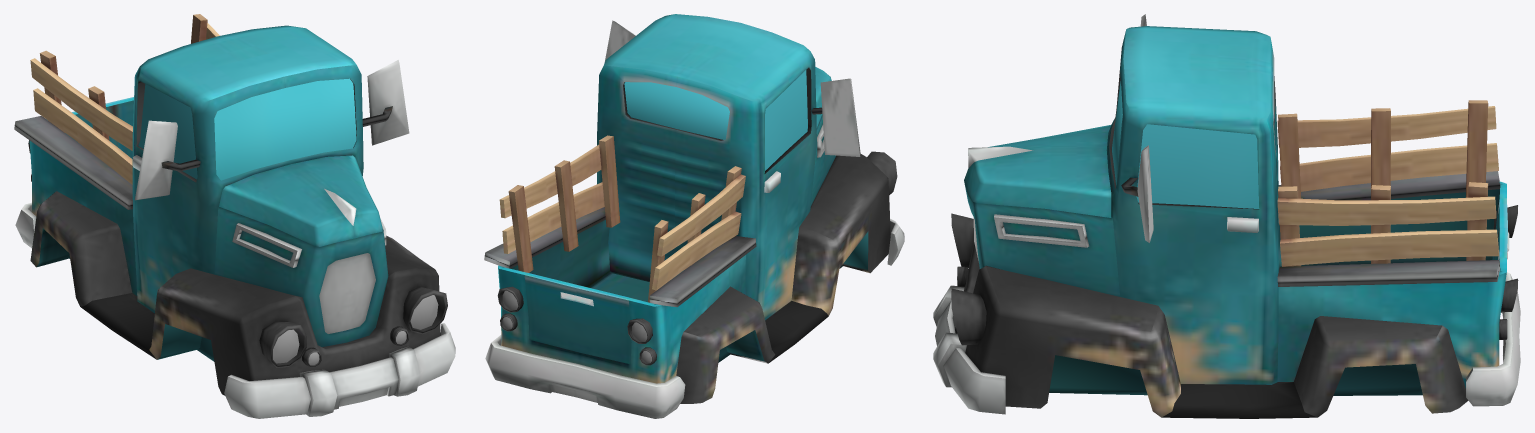
Rendered from truck_body.fbx.
3 views of the same model, side by side, from view 1: azimuth 30°, elevation 25°; view 2: azimuth 150°, elevation 25°; view 3: azimuth 270°, elevation 25° (orthographic). The views are drawn at different scales.
Parts seen in each view (by area): view 1: truck_body, headlights_front; view 2: truck_body, brakelights_rear; view 3: truck_body.
Boxes of the visible parts, x1=… form: truck_body: x1=14, y1=14, x2=455, y2=418; headlights_front: x1=273, y1=295, x2=438, y2=363; truck_body: x1=484, y1=14, x2=904, y2=418; brakelights_rear: x1=502, y1=290, x2=647, y2=341; truck_body: x1=933, y1=14, x2=1520, y2=418.
Bounding box in the file's own units: 191 × 180 × 318.
Materials: 5 (1 with a texture image).
